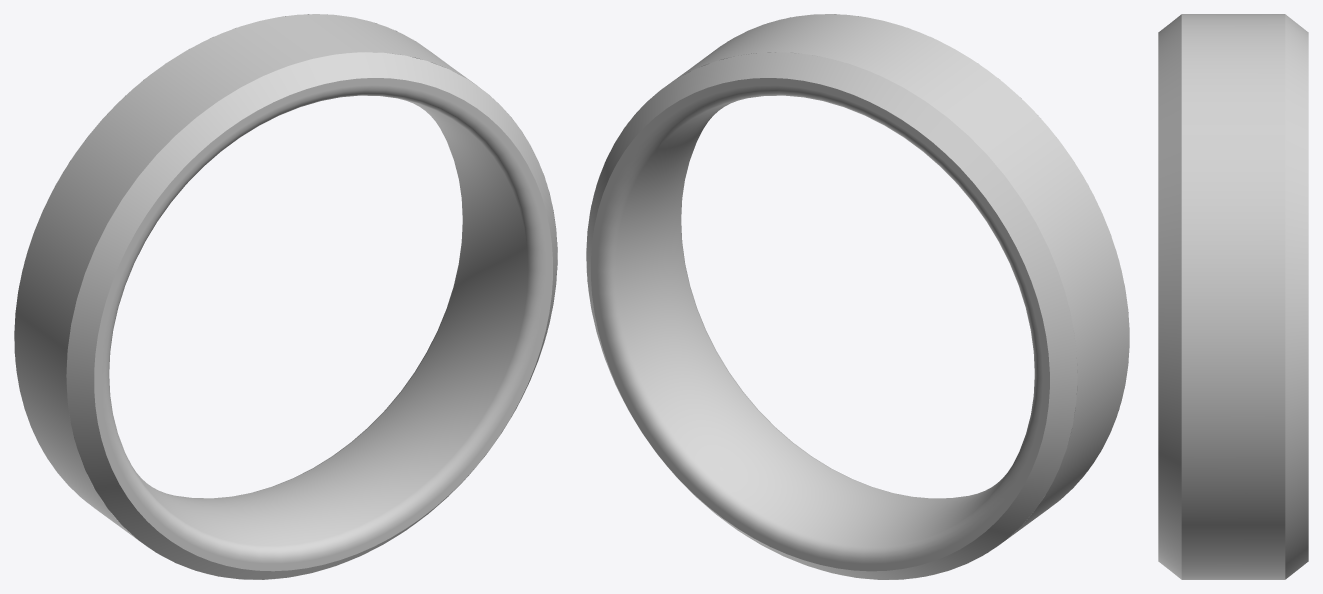
File: Beveled Edge W65 T22 S105 Studio.glb
3 views of the same model, side by side, from view 1: azimuth 30°, elevation 25°; view 2: azimuth 150°, elevation 25°; view 3: azimuth 270°, elevation 25° (orthographic).
Parts seen in each view (by area): view 1: Default(29B1C28C-22EA-4795-A163-6C53B44FFAD3), Default(F981293A-E4D3-4B5F-AEC3-90225175831C); view 2: Default(29B1C28C-22EA-4795-A163-6C53B44FFAD3), Default(F981293A-E4D3-4B5F-AEC3-90225175831C); view 3: Default(F981293A-E4D3-4B5F-AEC3-90225175831C), Default(29B1C28C-22EA-4795-A163-6C53B44FFAD3).
Part boxes in pixels (x1,y1,x2,y2): Default(29B1C28C-22EA-4795-A163-6C53B44FFAD3): (14,14,557,579); Default(F981293A-E4D3-4B5F-AEC3-90225175831C): (14,14,557,579); Default(29B1C28C-22EA-4795-A163-6C53B44FFAD3): (586,14,1128,579); Default(F981293A-E4D3-4B5F-AEC3-90225175831C): (586,14,1129,579); Default(F981293A-E4D3-4B5F-AEC3-90225175831C): (1181,14,1285,579); Default(29B1C28C-22EA-4795-A163-6C53B44FFAD3): (1158,14,1308,579).
Size of the model in its own units: 0.0245 by 0.0245 by 0.0065.
2 materials, 2 textured.
